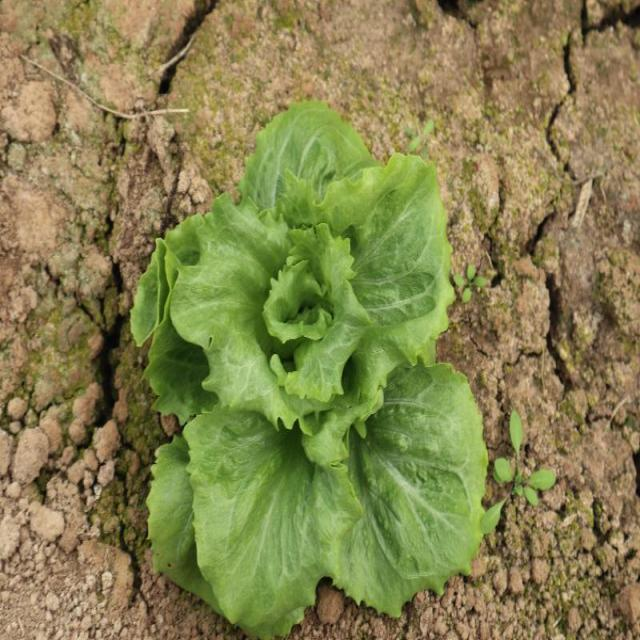crop: (130, 98, 490, 640)
